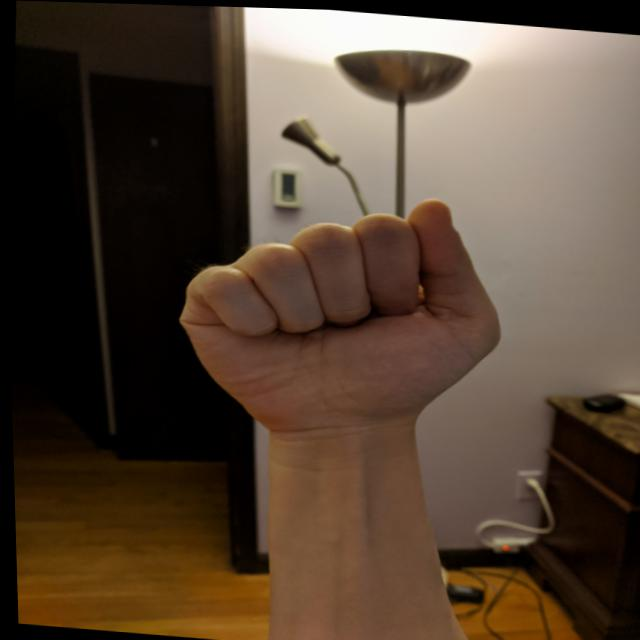A: (157, 170, 517, 459)
